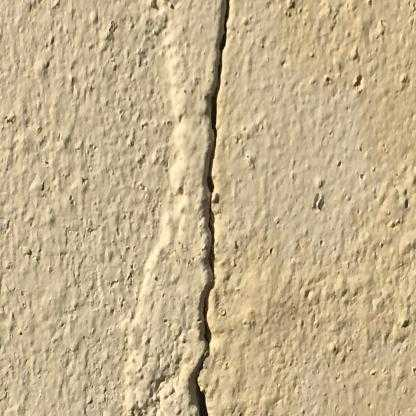crack: (189, 5, 231, 411)
